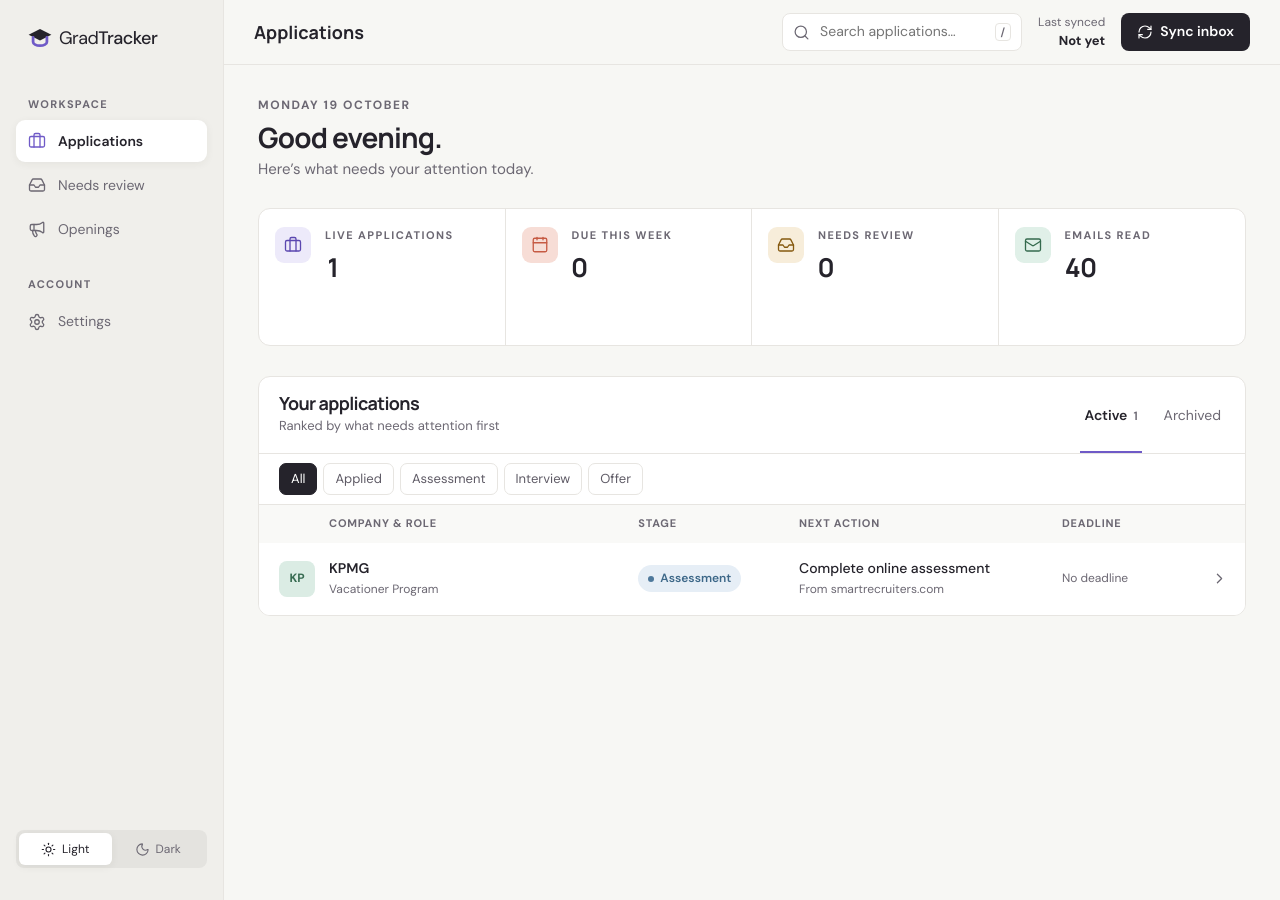
offline (T5.7, app-flow.md §7) › keeps the pipeline readable while offline, under a banner that says so
The image size is (1280, 900).
Expected: the text "KPMG" is shown, [329,559,369,577]
Click the button "Sync inbox" at (1186, 32), box [1121,13,1250,51]
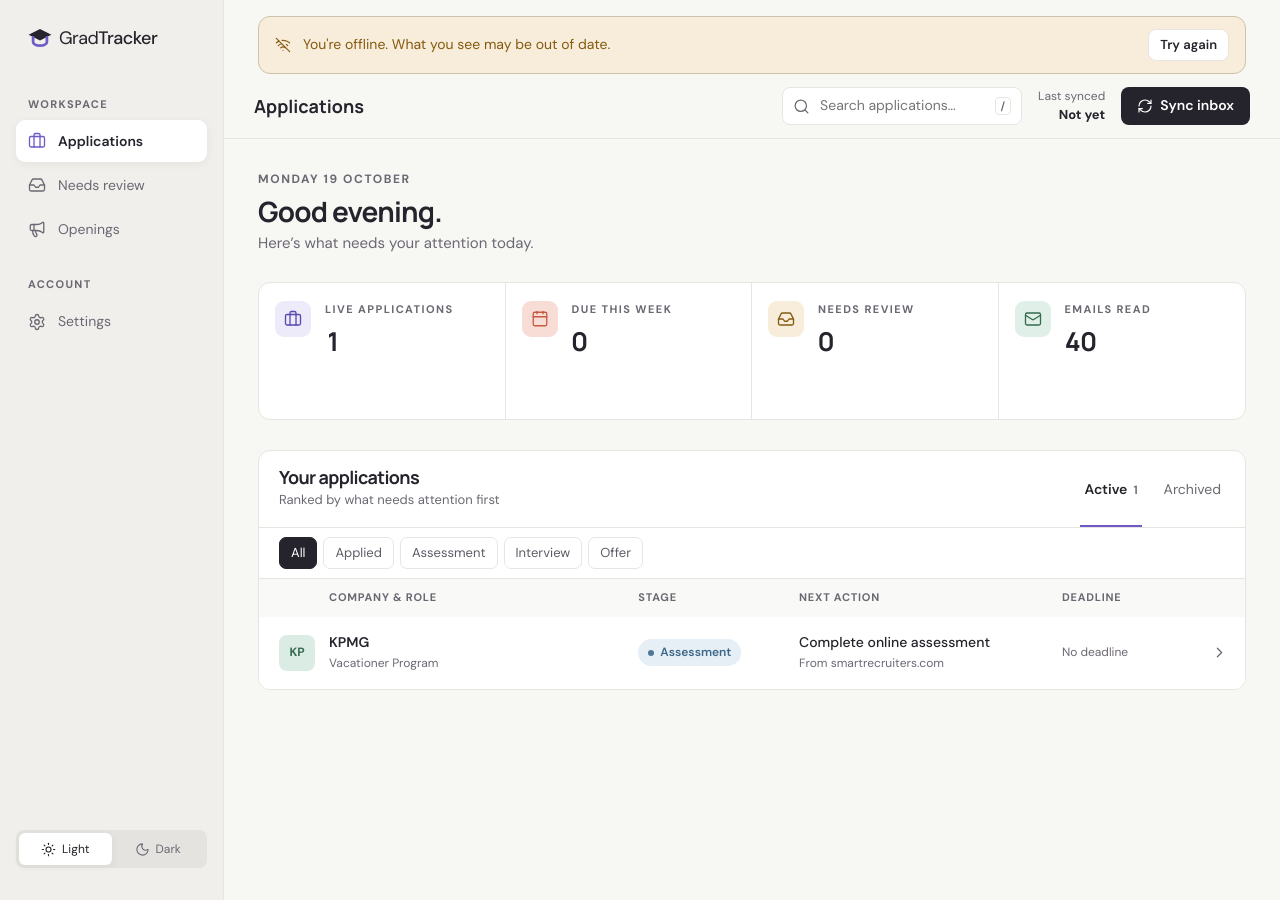
Expected: the text "KPMG" is shown, [329,633,369,651]
Now the text "You're offline. What you see may be out of date." is shown, box [303,35,610,53]
